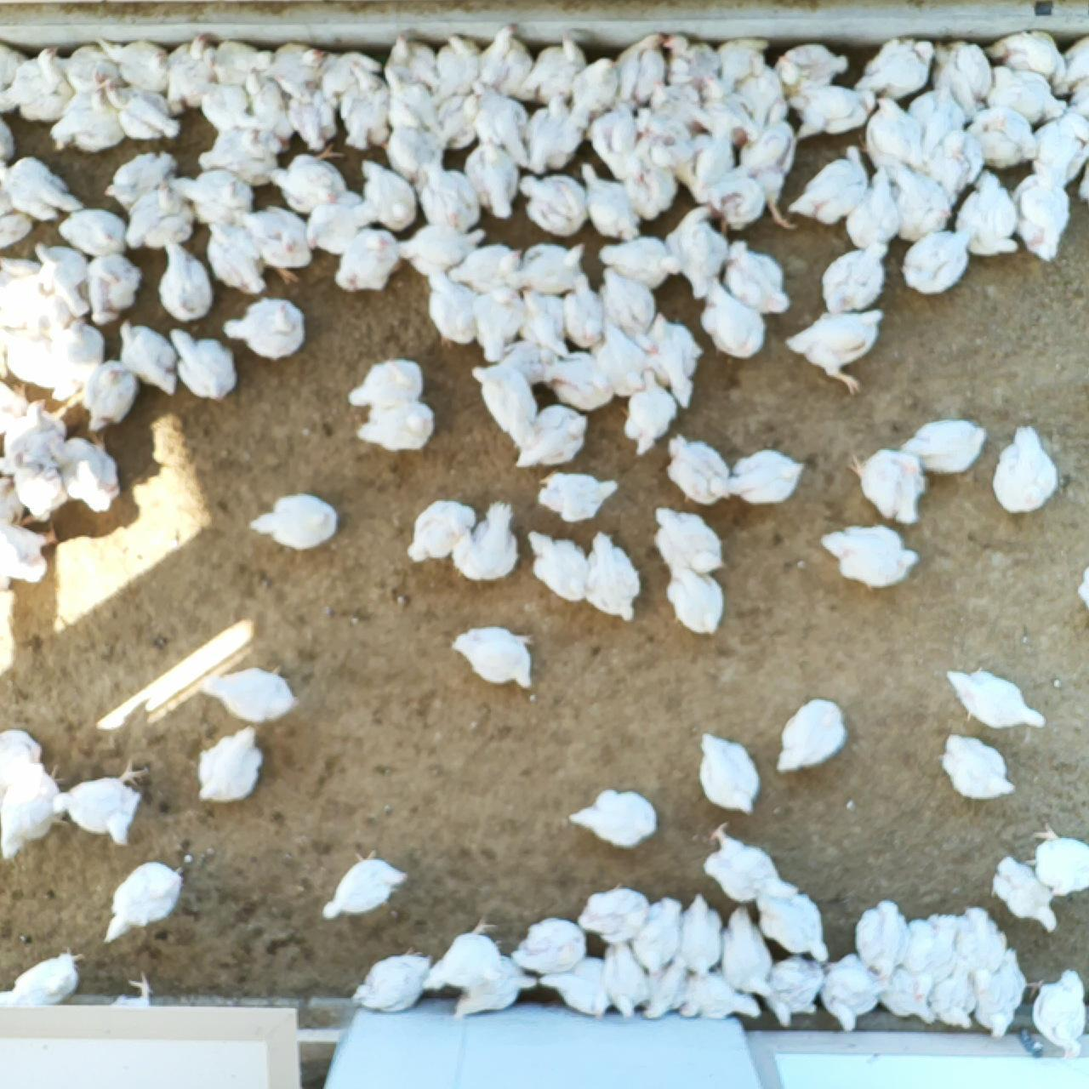chicken: (789, 309, 887, 396), (700, 821, 804, 902), (425, 921, 545, 990), (57, 761, 157, 842), (662, 197, 733, 297), (100, 860, 185, 943), (819, 524, 921, 592), (940, 666, 1046, 730), (790, 145, 872, 226), (445, 626, 546, 688), (269, 144, 357, 215), (935, 727, 1018, 801), (239, 207, 315, 286), (569, 783, 657, 851), (95, 77, 184, 144), (540, 945, 621, 1018), (414, 162, 493, 236), (696, 731, 764, 816), (1029, 961, 1089, 1057), (53, 71, 125, 151), (754, 881, 830, 956), (195, 727, 271, 802), (849, 448, 924, 524), (3, 778, 69, 864), (471, 79, 532, 172), (893, 419, 989, 477), (700, 272, 764, 359), (991, 855, 1061, 934), (472, 366, 539, 448), (104, 153, 188, 218), (645, 304, 699, 405), (984, 26, 1065, 93), (778, 690, 842, 774), (823, 956, 889, 1037), (956, 167, 1018, 253), (1, 161, 87, 223), (331, 224, 407, 294), (222, 295, 305, 359), (9, 46, 76, 125), (335, 65, 396, 151), (248, 493, 340, 550), (324, 857, 408, 919), (1025, 819, 1089, 900), (198, 221, 270, 293), (887, 165, 957, 239), (665, 433, 734, 508), (744, 112, 790, 224), (203, 669, 302, 721), (934, 38, 994, 123), (299, 191, 373, 259), (722, 913, 779, 1001), (1, 951, 89, 1008), (595, 233, 683, 290), (93, 37, 182, 93), (597, 271, 659, 351), (423, 271, 490, 345), (1012, 174, 1067, 264), (900, 227, 973, 294), (990, 64, 1070, 125), (584, 533, 640, 620), (866, 98, 932, 171), (726, 236, 790, 311), (454, 503, 516, 580), (470, 285, 532, 362), (847, 168, 905, 250), (354, 953, 433, 1013), (509, 915, 589, 974), (172, 166, 252, 225), (526, 530, 587, 607), (902, 919, 959, 1001), (127, 185, 201, 248), (978, 952, 1028, 1045), (995, 430, 1049, 516), (657, 506, 724, 575), (153, 247, 216, 320), (576, 161, 638, 235), (576, 885, 651, 946), (949, 904, 1004, 987), (116, 320, 176, 396), (462, 138, 515, 224), (970, 100, 1037, 168), (439, 246, 526, 298), (31, 237, 88, 316), (795, 76, 870, 136), (857, 38, 933, 97), (407, 499, 478, 562), (478, 17, 528, 106), (598, 935, 649, 1022), (284, 85, 351, 151), (170, 328, 233, 398), (403, 224, 487, 275), (60, 436, 117, 511), (623, 369, 671, 458), (357, 402, 436, 456), (540, 469, 619, 523), (533, 32, 589, 108), (711, 162, 767, 238), (685, 973, 762, 1028), (733, 447, 806, 505), (823, 242, 887, 308), (761, 952, 818, 1025), (358, 158, 415, 231), (547, 348, 621, 404), (857, 898, 905, 984), (243, 66, 296, 143), (345, 360, 430, 408), (386, 68, 441, 142), (199, 134, 282, 183), (203, 34, 278, 88), (521, 170, 585, 233), (522, 405, 587, 467), (319, 49, 386, 107), (59, 322, 109, 399), (12, 401, 70, 467), (59, 212, 134, 263), (57, 44, 129, 97), (697, 77, 750, 149), (615, 31, 664, 108), (387, 30, 440, 101), (527, 94, 573, 175), (666, 569, 721, 636), (914, 82, 968, 150), (709, 33, 772, 91), (562, 274, 609, 350), (518, 241, 585, 294), (3, 456, 62, 516), (275, 41, 334, 101), (598, 322, 647, 394), (682, 904, 729, 979), (640, 102, 684, 182), (83, 255, 136, 321), (1031, 111, 1083, 178), (83, 361, 134, 429), (171, 33, 219, 105), (777, 43, 844, 94), (436, 33, 482, 106), (12, 331, 65, 394), (628, 157, 681, 219), (573, 55, 617, 129), (522, 287, 569, 356), (586, 106, 634, 173), (385, 121, 446, 173), (640, 897, 681, 974), (881, 959, 931, 1022), (691, 128, 735, 196), (738, 71, 794, 123), (643, 962, 690, 1023), (452, 976, 528, 1013), (1, 524, 53, 578), (6, 256, 38, 340), (664, 34, 723, 79), (654, 79, 701, 134), (500, 339, 561, 381), (439, 88, 479, 151), (201, 85, 259, 128), (1059, 31, 1089, 113), (1, 731, 48, 781), (932, 134, 966, 202), (932, 978, 972, 1030), (29, 272, 63, 333), (1, 476, 32, 528), (108, 969, 147, 1010), (1, 193, 27, 252), (1, 42, 29, 94), (6, 380, 26, 431), (1076, 558, 1089, 622), (1, 119, 15, 165), (1081, 165, 1087, 198)
